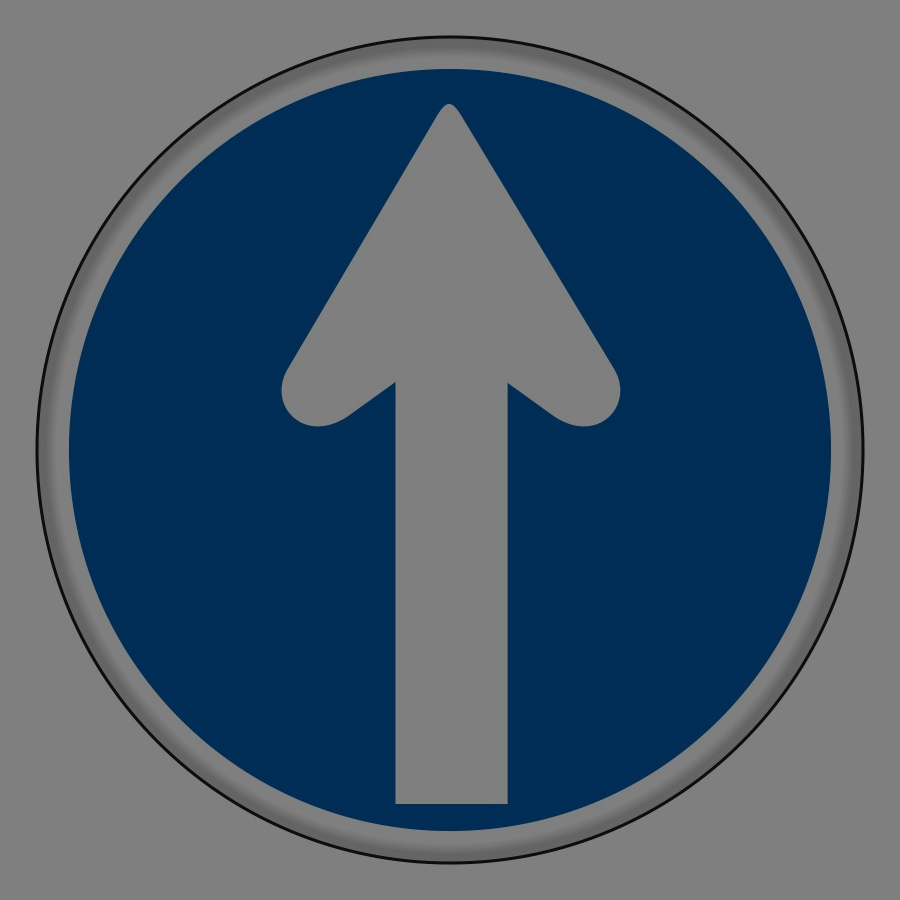Direction_sign: (21, 27, 890, 860)
